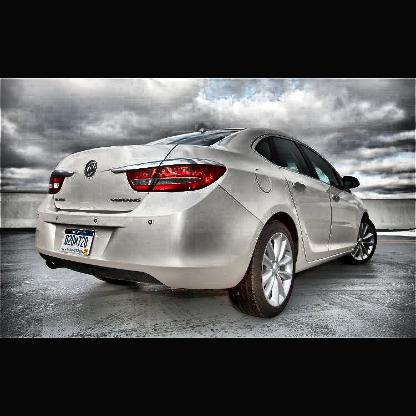Buick Verano Sedan 2012: (37, 129, 380, 320)
